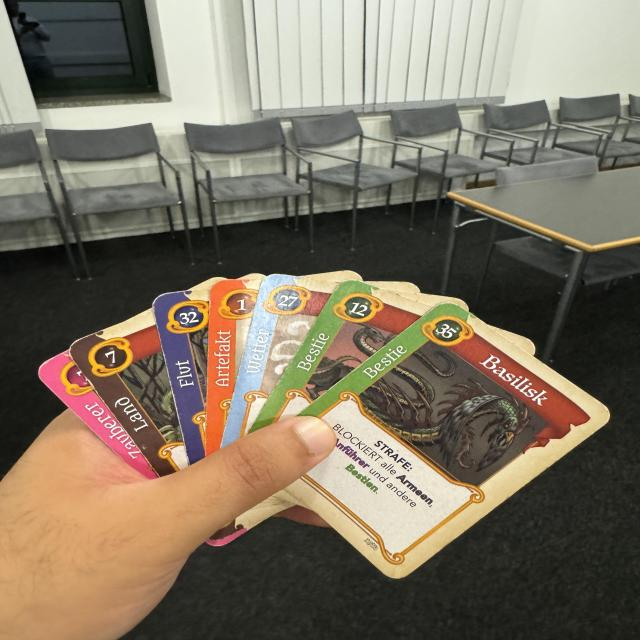Basilisk: (287, 300, 617, 584)
Collector: (33, 351, 161, 481)
Forest: (64, 309, 189, 478)
Great Flood: (150, 288, 213, 466)
Hydra: (247, 277, 434, 433)
Rune Of Protection: (204, 279, 264, 457)
Smoke: (220, 272, 338, 447)
